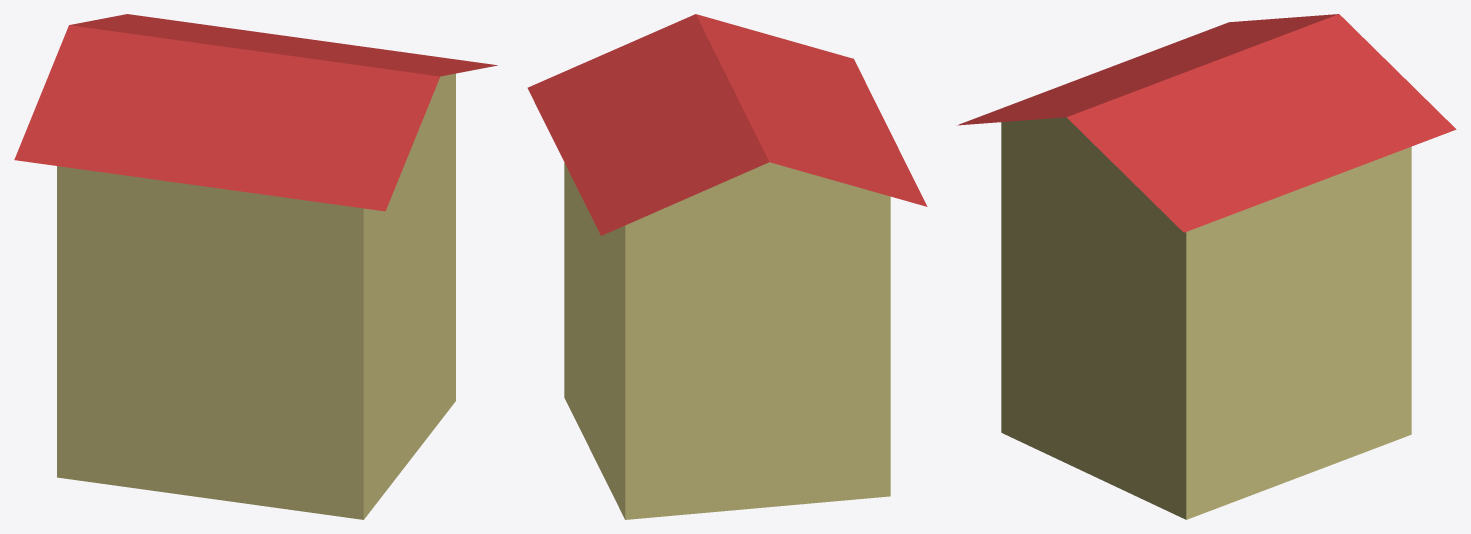
3 views of the same model, side by side, from view 1: azimuth 30°, elevation 25°; view 2: azimuth 150°, elevation 25°; view 3: azimuth 270°, elevation 25° (orthographic). The views are drawn at different scales.
Parts seen in each view (by area): view 1: group_5, group_3, group_4; view 2: group_5, group_3, group_4; view 3: group_5, group_3, group_4.
Boxes of the visible parts, box(x1,y1,x2,y2) form: group_5: box(57, 73, 455, 519); group_3: box(14, 20, 454, 211); group_4: box(18, 14, 497, 211); group_5: box(564, 162, 890, 519); group_3: box(564, 14, 927, 209); group_4: box(527, 14, 926, 235); group_5: box(1001, 117, 1411, 519); group_3: box(1002, 14, 1411, 228); group_4: box(957, 14, 1456, 232).
Size of the model in its own units: 15.63 by 15.7 by 12.68.
